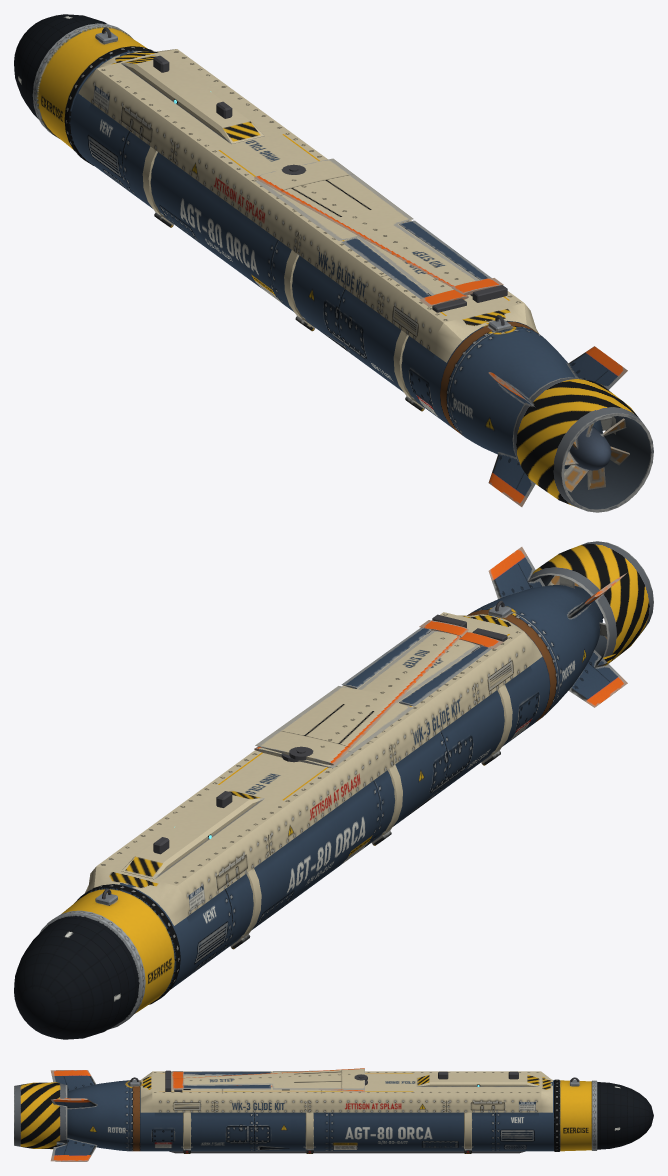
The model's file is Orca.fbx.
3 views of the same model, one above another, from view 1: azimuth 30°, elevation 25°; view 2: azimuth 150°, elevation 25°; view 3: azimuth 270°, elevation 25° (orthographic). The views are drawn at different scales.
Parts seen in each view (by area): view 1: Skin, WingKit, WingL, WingR, Rotor, Dark.001; view 2: Skin, WingKit, WingL, WingR, Dark.001; view 3: Skin, WingKit, WingL, Dark, WingR, Dark.001.
Boxes of the visible parts, x1,y1,x2,y2 form: Skin: (14,14,653,512); WingKit: (78,49,538,411); WingL: (254,158,503,295); WingR: (255,180,468,306); Rotor: (564,418,629,492); Dark.001: (153,55,507,312); Skin: (14,541,653,1039); WingKit: (85,612,542,949); WingL: (255,620,468,765); WingR: (254,631,503,768); Dark.001: (153,614,507,854); Skin: (14,1070,653,1161); WingKit: (140,1071,552,1153); WingL: (172,1068,364,1089); Dark: (130,1077,578,1153); WingR: (172,1070,364,1092); Dark.001: (165,1070,518,1091).
Size of what is drawn, in the model's own units: 36.91 by 42.5 by 324.
3 materials, 1 textured.
